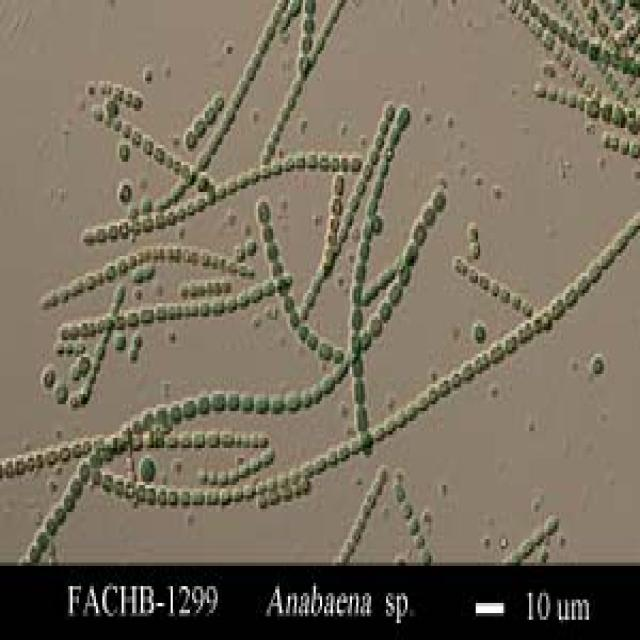Blue Green Algae: (584, 256, 604, 290), (407, 219, 429, 249), (352, 401, 371, 431), (139, 458, 158, 485), (367, 313, 382, 347), (392, 404, 408, 435), (264, 239, 284, 263), (550, 293, 566, 323), (254, 387, 269, 418), (296, 51, 310, 84), (431, 185, 448, 212), (164, 404, 183, 428), (422, 198, 438, 226), (600, 242, 616, 270), (256, 199, 275, 222), (350, 357, 367, 381), (284, 387, 301, 411), (397, 105, 412, 132), (190, 428, 205, 455), (312, 454, 326, 482), (401, 243, 418, 266), (220, 428, 237, 451), (269, 388, 284, 414), (614, 229, 630, 253), (182, 398, 198, 421), (298, 34, 316, 54), (356, 242, 374, 262), (211, 387, 226, 411), (224, 296, 239, 320), (190, 485, 205, 509), (435, 377, 450, 401), (177, 485, 190, 512), (303, 152, 318, 175), (388, 125, 403, 148), (352, 381, 367, 404), (141, 408, 156, 431), (205, 428, 220, 451), (382, 418, 397, 441), (36, 529, 51, 552), (348, 283, 365, 303), (198, 168, 212, 192), (332, 360, 346, 384), (138, 303, 152, 327), (348, 330, 360, 357), (506, 330, 518, 357), (54, 381, 68, 404), (586, 98, 600, 121), (488, 337, 502, 360), (138, 209, 154, 229), (202, 101, 215, 125), (224, 175, 237, 199), (205, 485, 218, 509), (298, 17, 316, 34), (386, 283, 401, 303), (239, 391, 254, 411), (196, 394, 211, 414), (211, 296, 226, 316), (68, 478, 83, 498), (461, 360, 476, 380), (467, 240, 482, 260), (128, 132, 143, 152), (256, 34, 269, 57), (130, 91, 143, 114), (510, 290, 523, 313), (614, 105, 625, 132), (576, 273, 587, 300), (362, 198, 378, 216), (228, 388, 239, 414), (268, 158, 282, 178), (348, 306, 362, 326), (262, 222, 276, 242), (316, 340, 330, 360), (248, 283, 262, 303), (152, 300, 166, 320), (328, 196, 342, 216), (534, 78, 548, 98), (241, 482, 258, 498), (427, 384, 437, 411), (326, 448, 337, 472), (352, 260, 365, 280), (401, 266, 414, 286), (320, 374, 333, 394), (62, 492, 75, 512), (467, 266, 480, 286), (145, 485, 158, 505), (234, 172, 250, 188), (175, 205, 190, 222), (465, 222, 480, 239), (320, 152, 331, 175), (79, 462, 90, 485), (100, 472, 111, 495), (499, 283, 510, 306), (113, 475, 124, 498), (248, 168, 262, 186), (599, 95, 608, 122), (284, 296, 294, 320), (154, 212, 168, 229), (348, 155, 362, 172), (376, 158, 390, 175), (358, 215, 372, 232), (268, 260, 282, 276), (198, 300, 212, 316), (192, 121, 205, 138), (196, 148, 209, 165), (371, 182, 384, 199), (53, 505, 66, 522), (179, 158, 190, 178), (213, 182, 224, 202), (230, 485, 241, 505), (401, 498, 412, 518), (218, 488, 230, 506), (408, 518, 420, 536), (152, 145, 164, 162), (378, 300, 390, 316), (305, 330, 316, 347), (277, 280, 286, 300), (252, 50, 260, 70), (393, 482, 403, 498), (164, 209, 175, 222), (480, 270, 486, 293)
